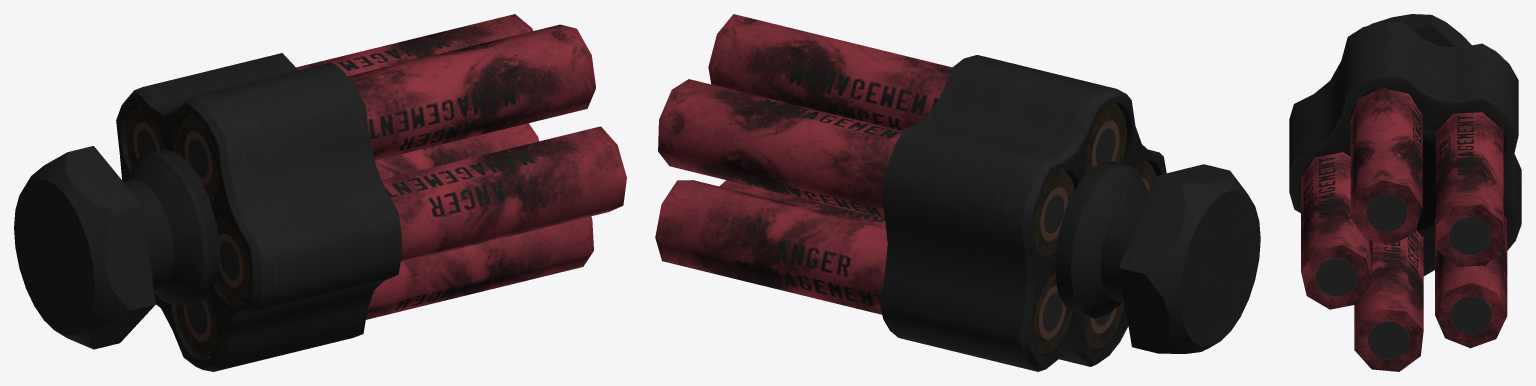
File: t6_attach_speedloader_view_LOD0.obj
3 views of the same model, side by side, from view 1: azimuth 30°, elevation 25°; view 2: azimuth 150°, elevation 25°; view 3: azimuth 270°, elevation 25° (orthographic). The views are drawn at different scales.
Parts seen in each view (by area): view 1: mtl_t6_attach_speedloader, mtl_t6_wpn_pistol_judge_shell; view 2: mtl_t6_attach_speedloader, mtl_t6_wpn_pistol_judge_shell; view 3: mtl_t6_wpn_pistol_judge_shell, mtl_t6_attach_speedloader.
Part boxes in pixels (box(x1,y1,x2,y2)): mtl_t6_attach_speedloader: box(14, 53, 401, 371); mtl_t6_wpn_pistol_judge_shell: box(125, 14, 626, 358); mtl_t6_attach_speedloader: box(879, 55, 1260, 371); mtl_t6_wpn_pistol_judge_shell: box(655, 14, 1156, 355); mtl_t6_wpn_pistol_judge_shell: box(1301, 87, 1507, 371); mtl_t6_attach_speedloader: box(1289, 14, 1521, 276).
Bounding box in the file's own units: 13.51 × 6.78 × 6.63.
